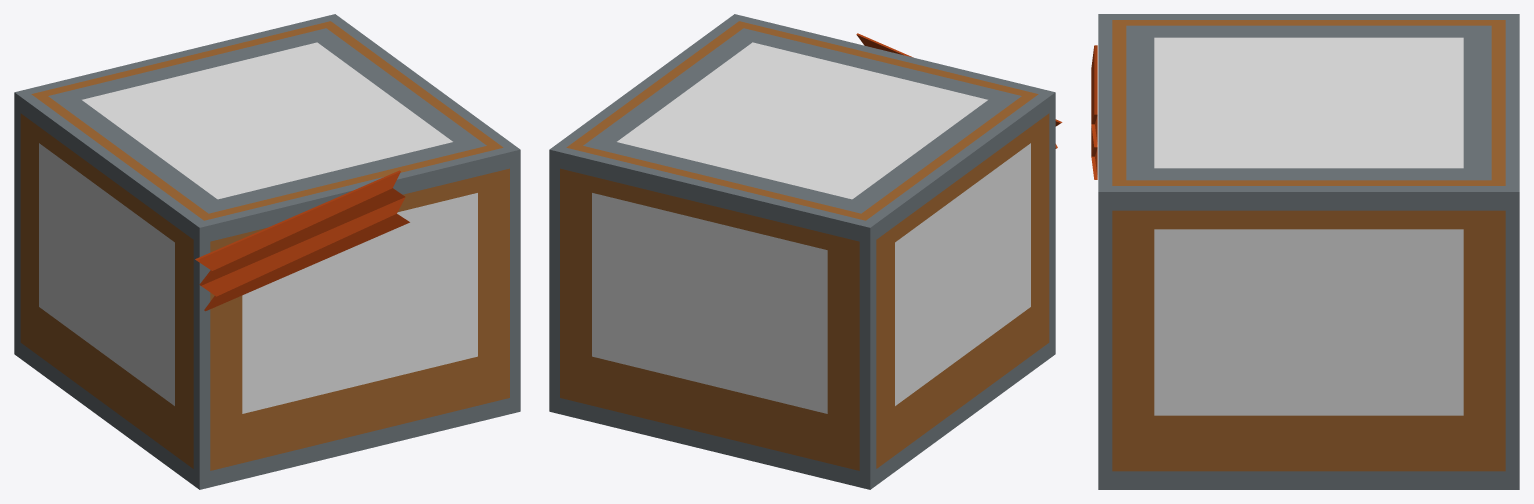
File: aeroponic_1_light_fixture.fbx
3 views of the same model, side by side, from view 1: azimuth 30°, elevation 25°; view 2: azimuth 150°, elevation 25°; view 3: azimuth 270°, elevation 25° (orthographic). The views are drawn at different scales.
Parts seen in each view (by area): view 1: combined_light_upgrade.001; view 2: combined_light_upgrade.001; view 3: combined_light_upgrade.001.
Boxes of the visible parts, left/top/right/bottom form: combined_light_upgrade.001: left=14, top=14, right=520, bottom=489; combined_light_upgrade.001: left=549, top=14, right=1062, bottom=489; combined_light_upgrade.001: left=1091, top=14, right=1519, bottom=489.
Bounding box in the file's own units: 234 × 186 × 234.
